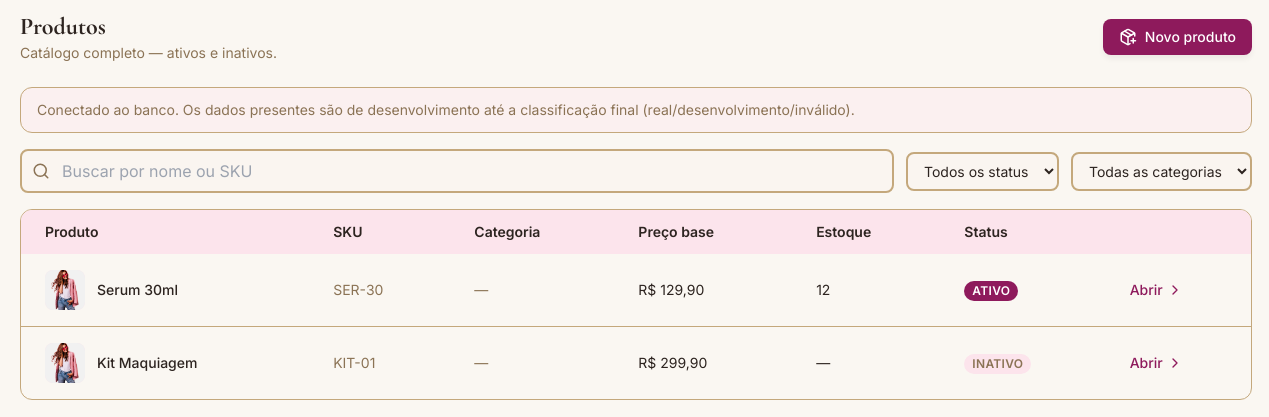
Scenario: AdminProdutosPage › busca filtra por nome e SKU
Type "SER-30" into the search field named "buscar produtos". click: (457, 171)
box: x1=20 y1=149 x2=894 y2=193
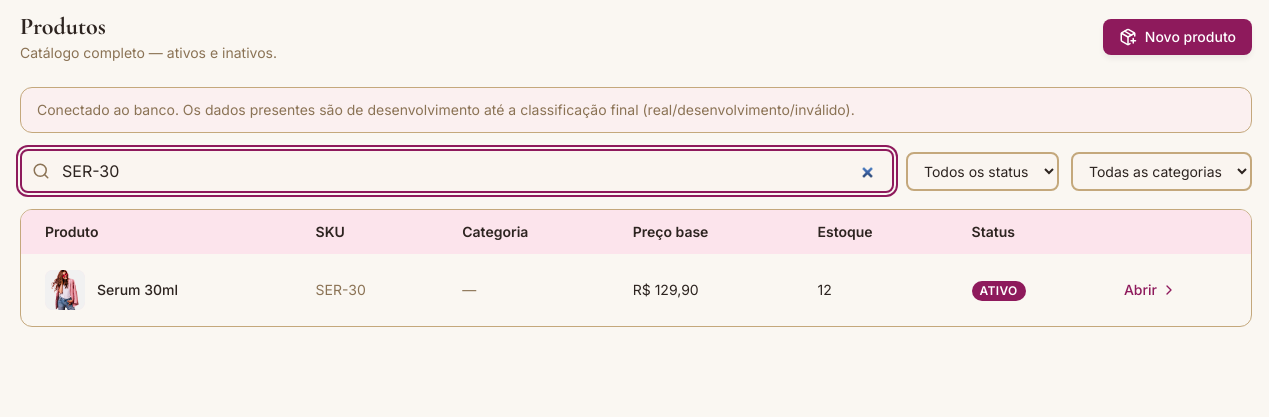
expect the text "Serum 30ml" is shown: met, box x1=97 y1=280 x2=178 y2=300
expect the link "Kit Maquiagem" is gone: met
